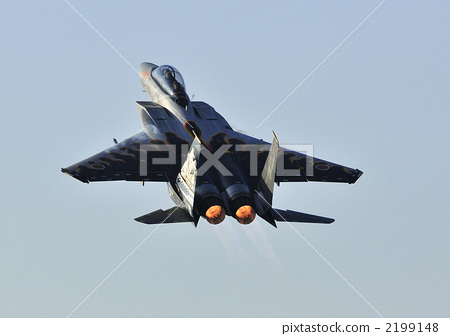airplane: (54, 59, 365, 226)
